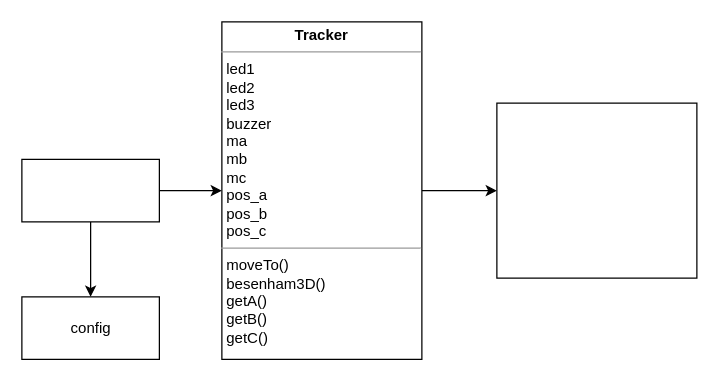
Some shapes in this 719 by 381 pixel diagram are drawn without their labels. The centre of each missing label's shape, as x and y in pixels:
"main" belongs at (90,190).
"StepperMotor pin_dir pin_step pin_enable enable() disable() step()" belongs at (596,190).
